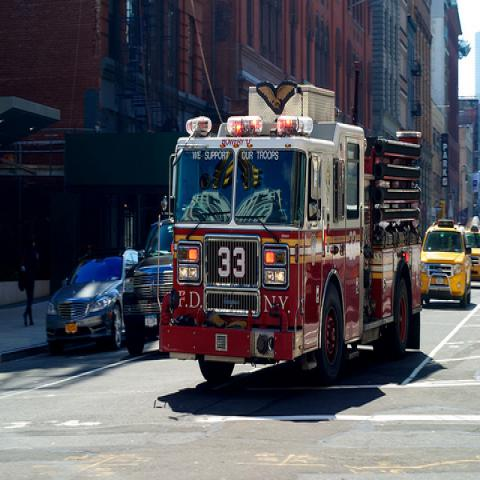car: (46, 246, 139, 358), (121, 211, 172, 361), (421, 217, 473, 310), (464, 230, 480, 282)
truck: (145, 77, 427, 386), (120, 226, 149, 361)
